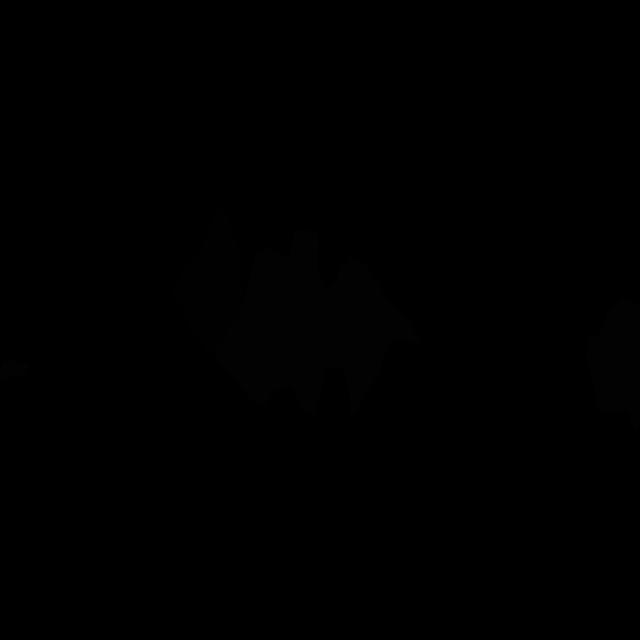cardboard: (214, 230, 421, 416), (586, 298, 640, 436), (0, 361, 29, 381)
rigid_plastic: (171, 208, 244, 355)
